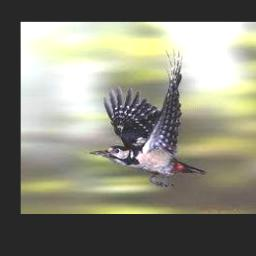Woodpecker: (90, 47, 207, 186)
